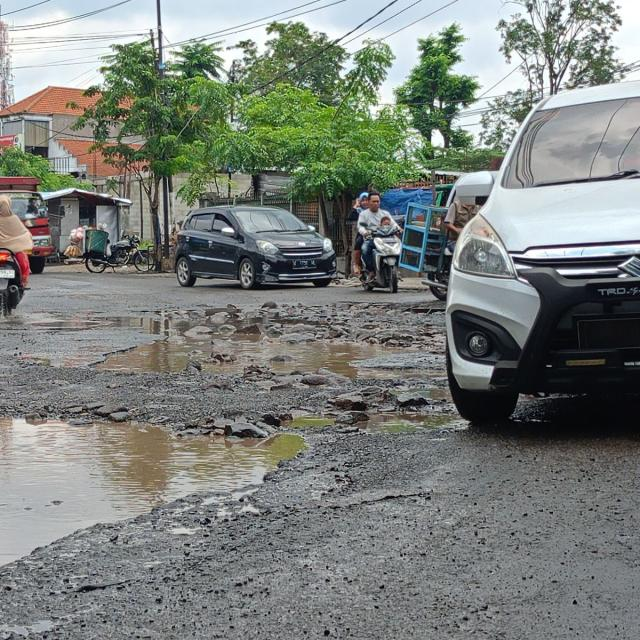pothole: (0, 412, 368, 577), (155, 297, 433, 349), (300, 382, 521, 442), (57, 329, 254, 375), (202, 335, 342, 391), (0, 293, 154, 317), (356, 356, 446, 384), (334, 343, 442, 362)
surface_degradation: (0, 290, 640, 640)
